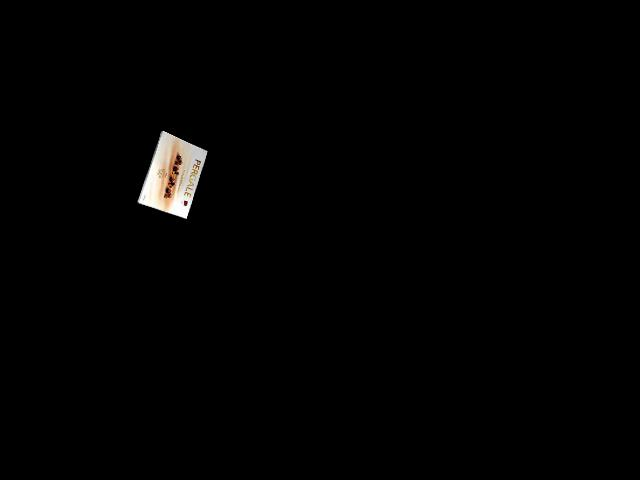chocolate: (133, 132, 208, 217)
